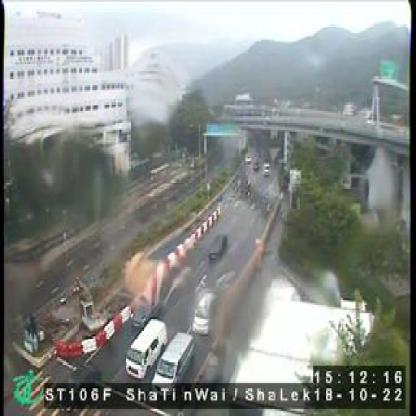Car: (125, 317, 169, 377), (153, 331, 196, 386), (192, 292, 217, 334), (207, 232, 229, 262)
